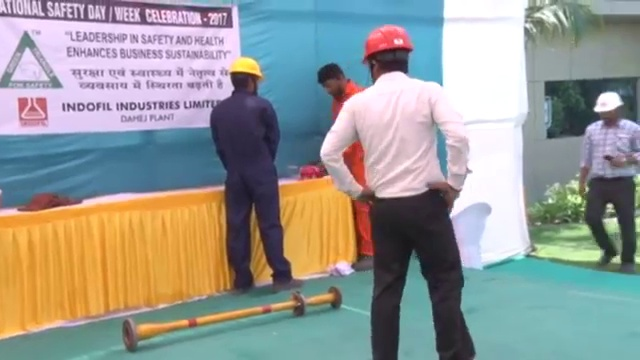helmet: (361, 24, 417, 63), (227, 55, 264, 80), (592, 89, 624, 113)
helmet_off: (314, 61, 352, 100)
helmet_on: (360, 23, 418, 87), (225, 52, 266, 102), (591, 86, 625, 129)
person: (320, 24, 477, 360), (211, 52, 303, 292), (313, 58, 383, 274), (579, 86, 640, 271)
